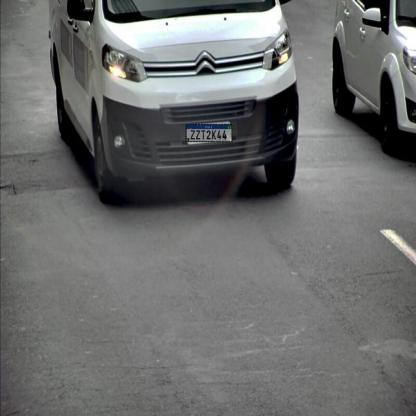PlacaM: (186, 124, 232, 142)
